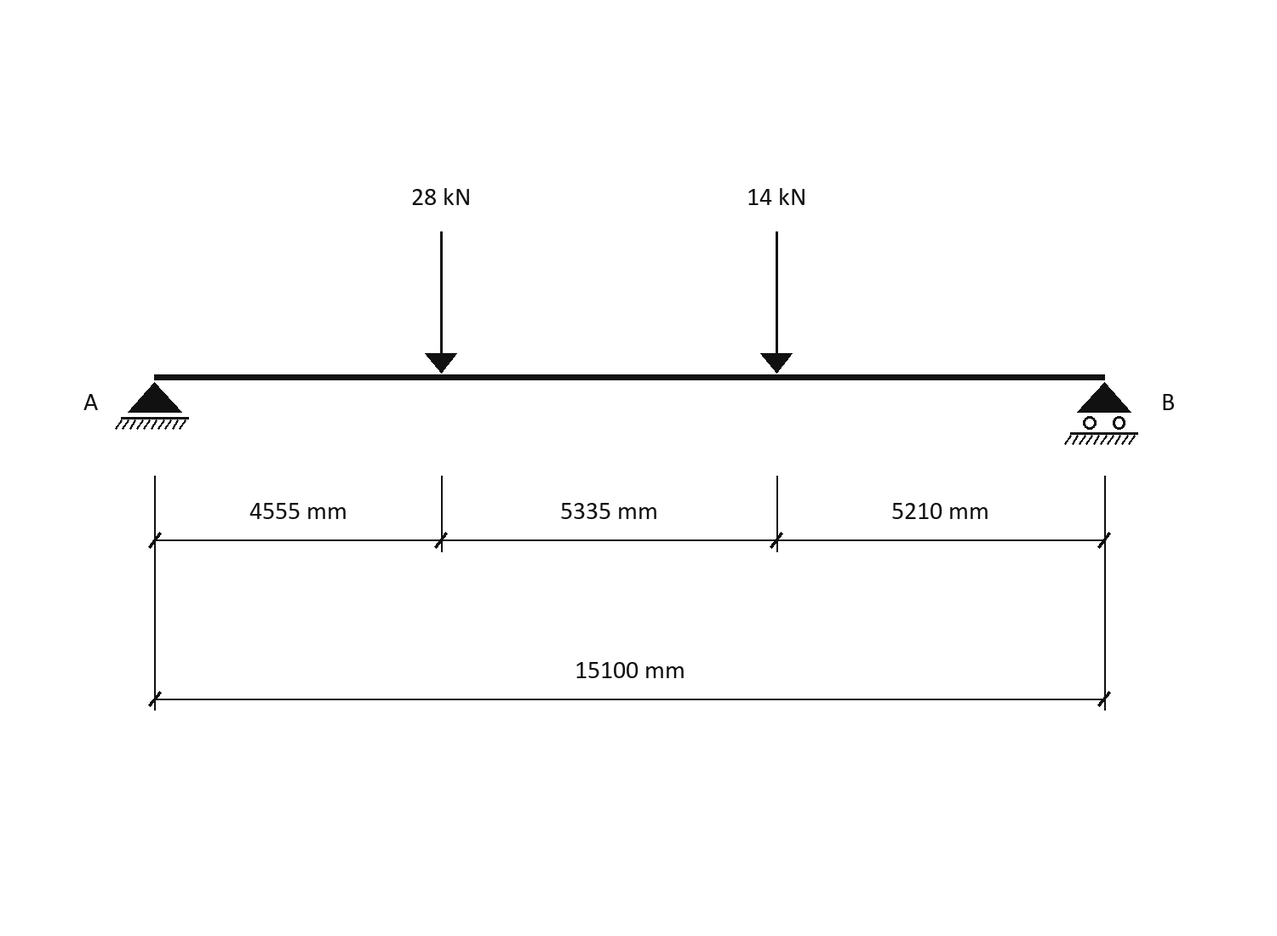pin_support: (115, 382, 189, 430)
point_load: (760, 231, 793, 374), (425, 231, 457, 374)
roller_support: (1064, 382, 1138, 445)
